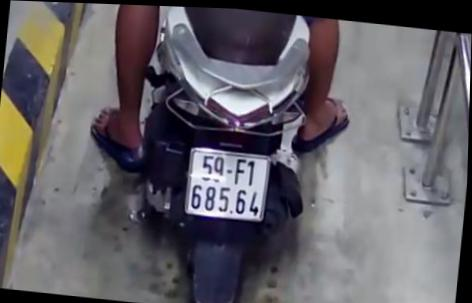LP: (182, 139, 273, 223)
